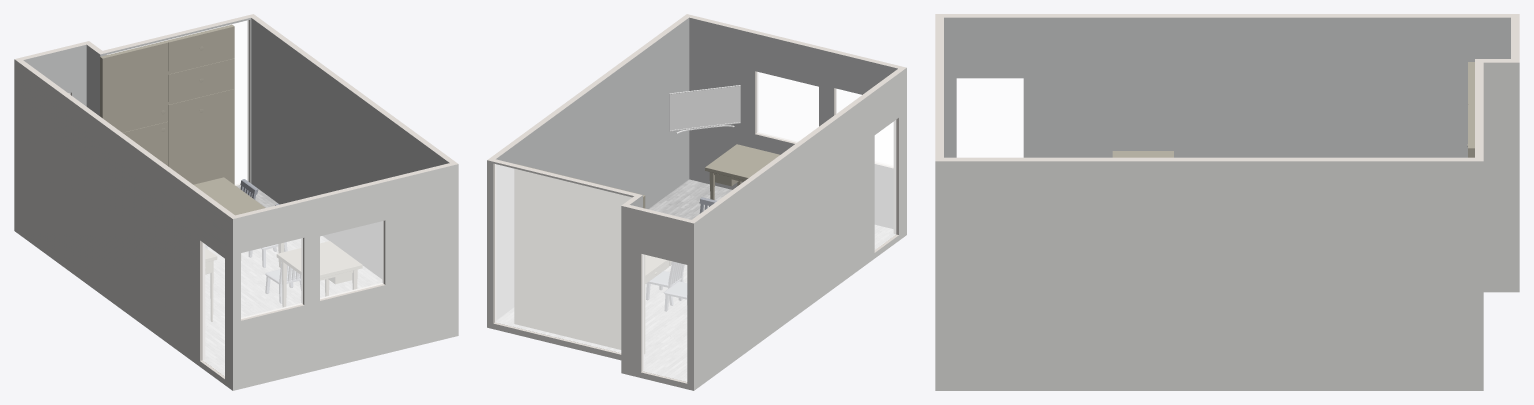
The model's file is Salle_212.glb.
The picture shows the model from 3 angles, left to right: view 1: azimuth 30°, elevation 25°; view 2: azimuth 150°, elevation 25°; view 3: azimuth 270°, elevation 25°; orthographic projection. The views are drawn at different scales.
Visible parts, largest first — view 1: wall_2, wall_5, wall_14, storage_cabinet_tall20, floor_Dining_Room, window_0, window_2, window_1, window_3, door_0, door_3, door_2 (+11 smaller); view 2: wall_2, door_2, door_5, wall_14, storage_cabinet_tall20, wall_16, wall_1, floor_Dining_Room, door_1, door_4, window_1, window_3 (+12 smaller); view 3: wall_4, wall_10, wall_3, door_0, door_3, wall_15, wall_11, wall_17, wall_7, storage_cabinet_tall20.
Boxes of the visible parts, x1,y1,x2,y2 form: wall_2: (14,59,232,390); wall_5: (233,164,458,390); wall_14: (251,18,449,278); storage_cabinet_tall20: (100,24,234,184); floor_Dining_Room: (203,185,381,376); window_0: (241,238,302,318); window_2: (241,238,302,318); window_1: (320,221,383,298); window_3: (320,221,383,298); door_0: (203,243,224,375); door_3: (203,243,224,375); door_2: (107,20,248,185); wall_2: (694,68,906,390); door_2: (495,164,631,352); door_5: (495,164,631,352); wall_14: (496,18,689,319); storage_cabinet_tall20: (514,164,645,353); wall_16: (689,17,897,228); wall_1: (621,206,693,390); floor_Dining_Room: (495,179,895,381); door_1: (642,254,686,381); door_4: (642,254,686,381); window_1: (757,72,818,142); window_3: (757,72,818,142); wall_4: (935,161,1483,390); wall_10: (944,17,1510,157); wall_3: (1483,62,1519,292); door_0: (957,78,1023,157); door_3: (957,78,1023,157); wall_15: (936,157,1482,161); wall_11: (936,14,1518,17); wall_17: (935,14,943,160); wall_7: (1475,59,1483,160); storage_cabinet_tall20: (1467,62,1474,157).
Size of the model in its own units: 4.07 by 2.96 by 6.83.
26 materials, 1 textured.
